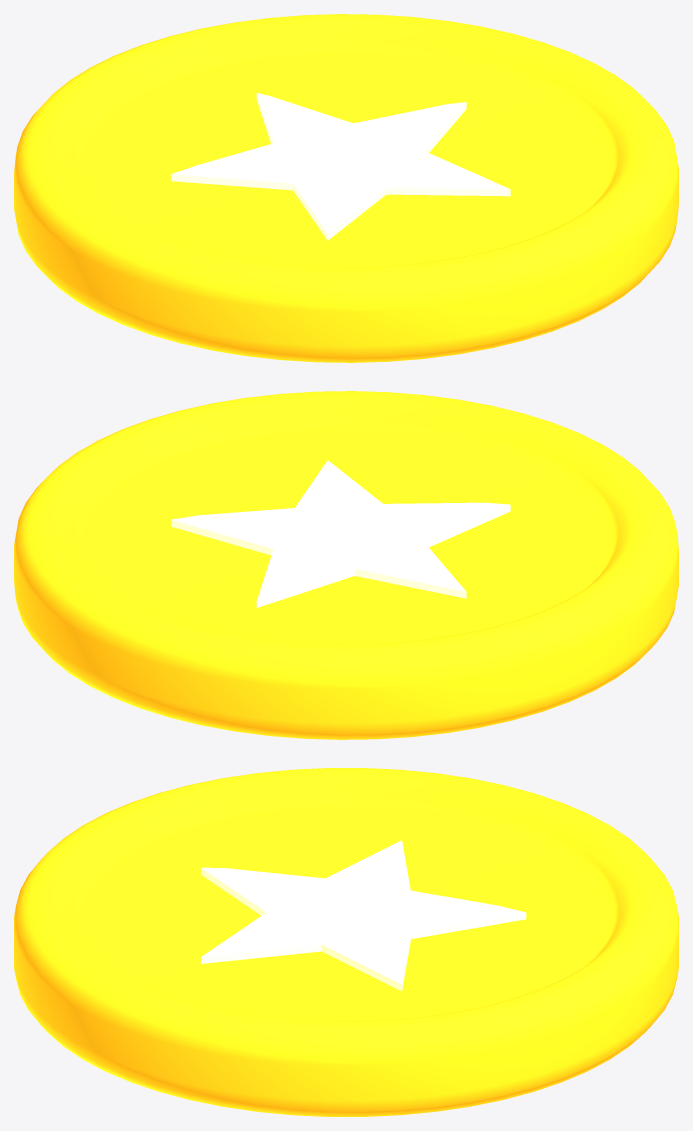
The picture shows the model from 3 angles, top to bottom: view 1: azimuth 30°, elevation 25°; view 2: azimuth 150°, elevation 25°; view 3: azimuth 270°, elevation 25°; orthographic projection.
Visible parts, largest first — view 1: Coin-whole; view 2: Coin-whole; view 3: Coin-whole.
Boxes of the visible parts, x1,y1,x2,y2 form: Coin-whole: [14, 14, 678, 362]; Coin-whole: [14, 391, 678, 739]; Coin-whole: [14, 768, 678, 1116].
Bounding box in the file's own units: 0.6389 × 0.0944 × 0.6389.
